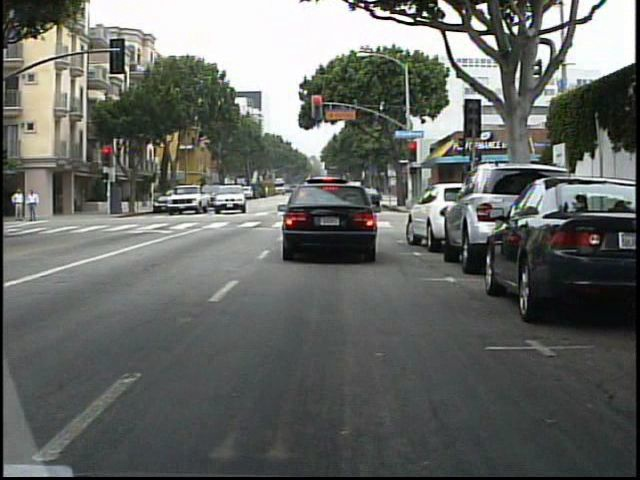person: (27, 187, 42, 223), (14, 185, 28, 221)
